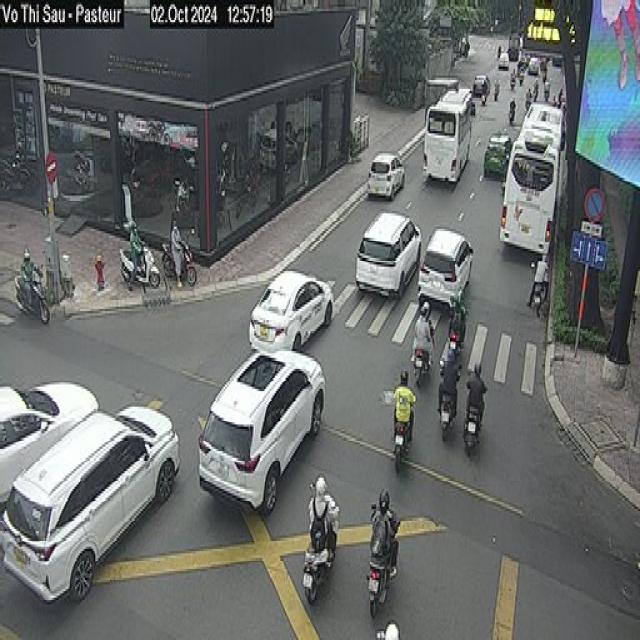bus: (499, 100, 565, 256), (422, 86, 472, 185)
car: (0, 402, 180, 604), (197, 347, 325, 516), (0, 380, 99, 511), (248, 269, 334, 353), (355, 209, 421, 298), (417, 226, 472, 306), (366, 151, 404, 200), (479, 127, 510, 181), (472, 67, 495, 107)
motorcycle: (365, 534, 397, 616), (302, 528, 338, 598), (14, 264, 50, 324), (119, 242, 160, 291), (387, 410, 418, 472), (432, 390, 463, 450), (162, 243, 198, 285), (462, 389, 483, 455), (410, 333, 434, 387), (445, 319, 472, 366), (525, 278, 547, 322), (506, 108, 518, 134), (478, 89, 491, 112), (508, 75, 518, 97), (495, 86, 500, 100)
person: (306, 476, 339, 566), (369, 487, 400, 578), (392, 369, 417, 447), (438, 347, 462, 418), (464, 362, 486, 431), (412, 300, 433, 369), (126, 215, 145, 289), (170, 218, 188, 286), (445, 280, 466, 334), (20, 245, 42, 289), (535, 258, 554, 296), (506, 97, 519, 117), (482, 80, 488, 97), (510, 64, 516, 77)
